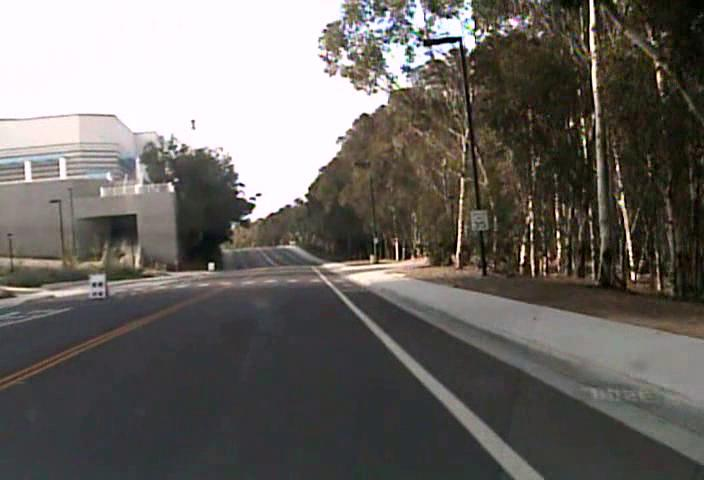speedLimit35: (469, 208, 490, 231)
